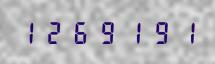nine: (95, 20, 120, 44), (147, 20, 172, 44)
one: (17, 20, 42, 44), (121, 20, 146, 44), (173, 20, 198, 44)
six: (69, 20, 94, 44)
two: (43, 20, 68, 44)
